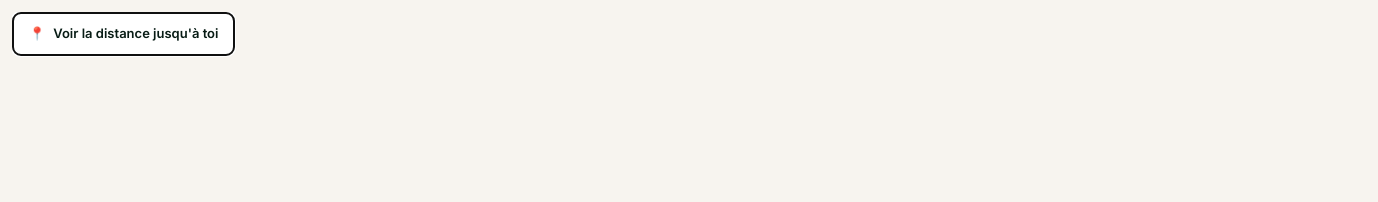
Test: DistanceWidget — disclosure interactif (T-237) › toggle ouvert → fermé → ouvert via clavier (Enter sur bouton)
This screenshot has width=1378, height=202.
Press Enter
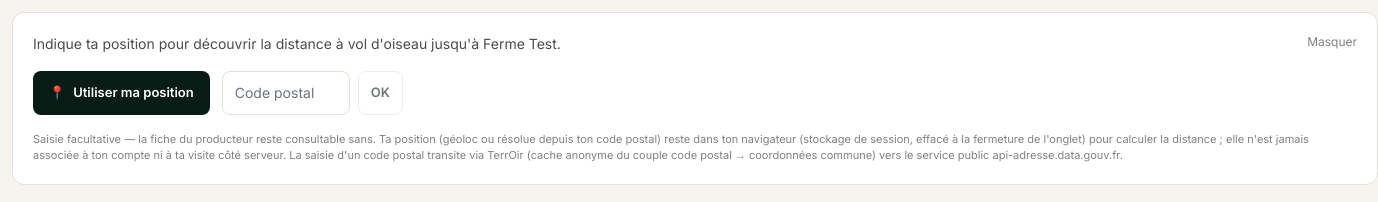
Check: the text "Indique ta position pour découvrir" is shown, box [33,35,483,52]
// Ferme via "Masquer".
Click the button with aria-label "Masquer le détail de la distance" at (1332, 42), box [1307,33,1357,51]
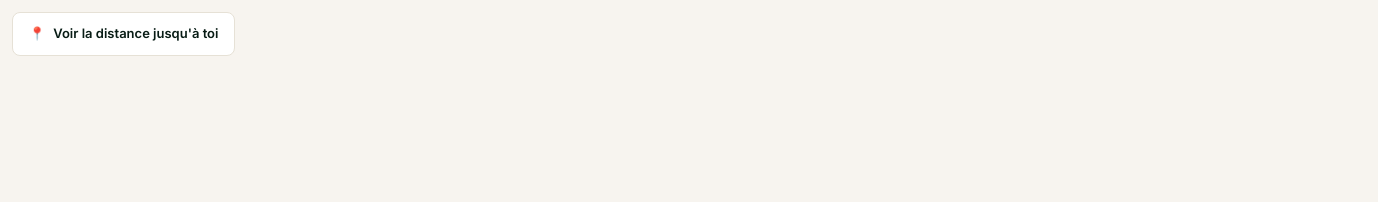
Check: the button "📍 Voir la distance jusqu'à toi" is shown, box [12,12,235,56]
Check: the text "Indique ta position pour découvrir" is gone
